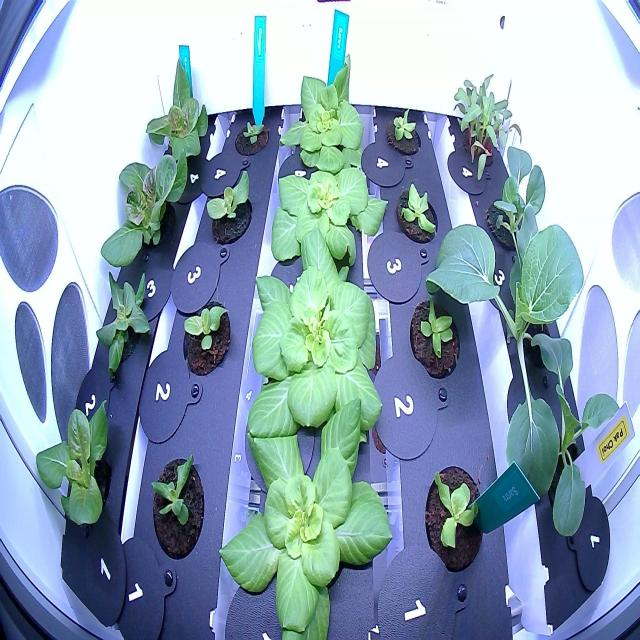young: (211, 388, 401, 639), (238, 218, 400, 448), (266, 158, 392, 287), (95, 133, 196, 288), (32, 383, 119, 544), (274, 48, 373, 175), (86, 257, 158, 389), (143, 45, 214, 178), (417, 458, 488, 576), (146, 446, 207, 572), (403, 290, 462, 390), (177, 286, 236, 385), (202, 164, 255, 257), (391, 174, 441, 248), (381, 102, 425, 166), (230, 104, 272, 165)
